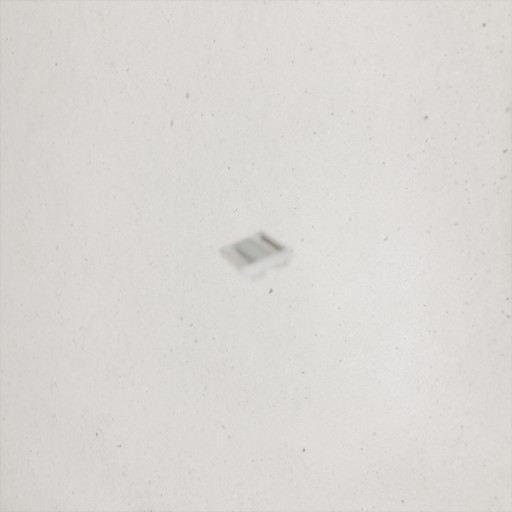lego: (218, 230, 295, 281)
